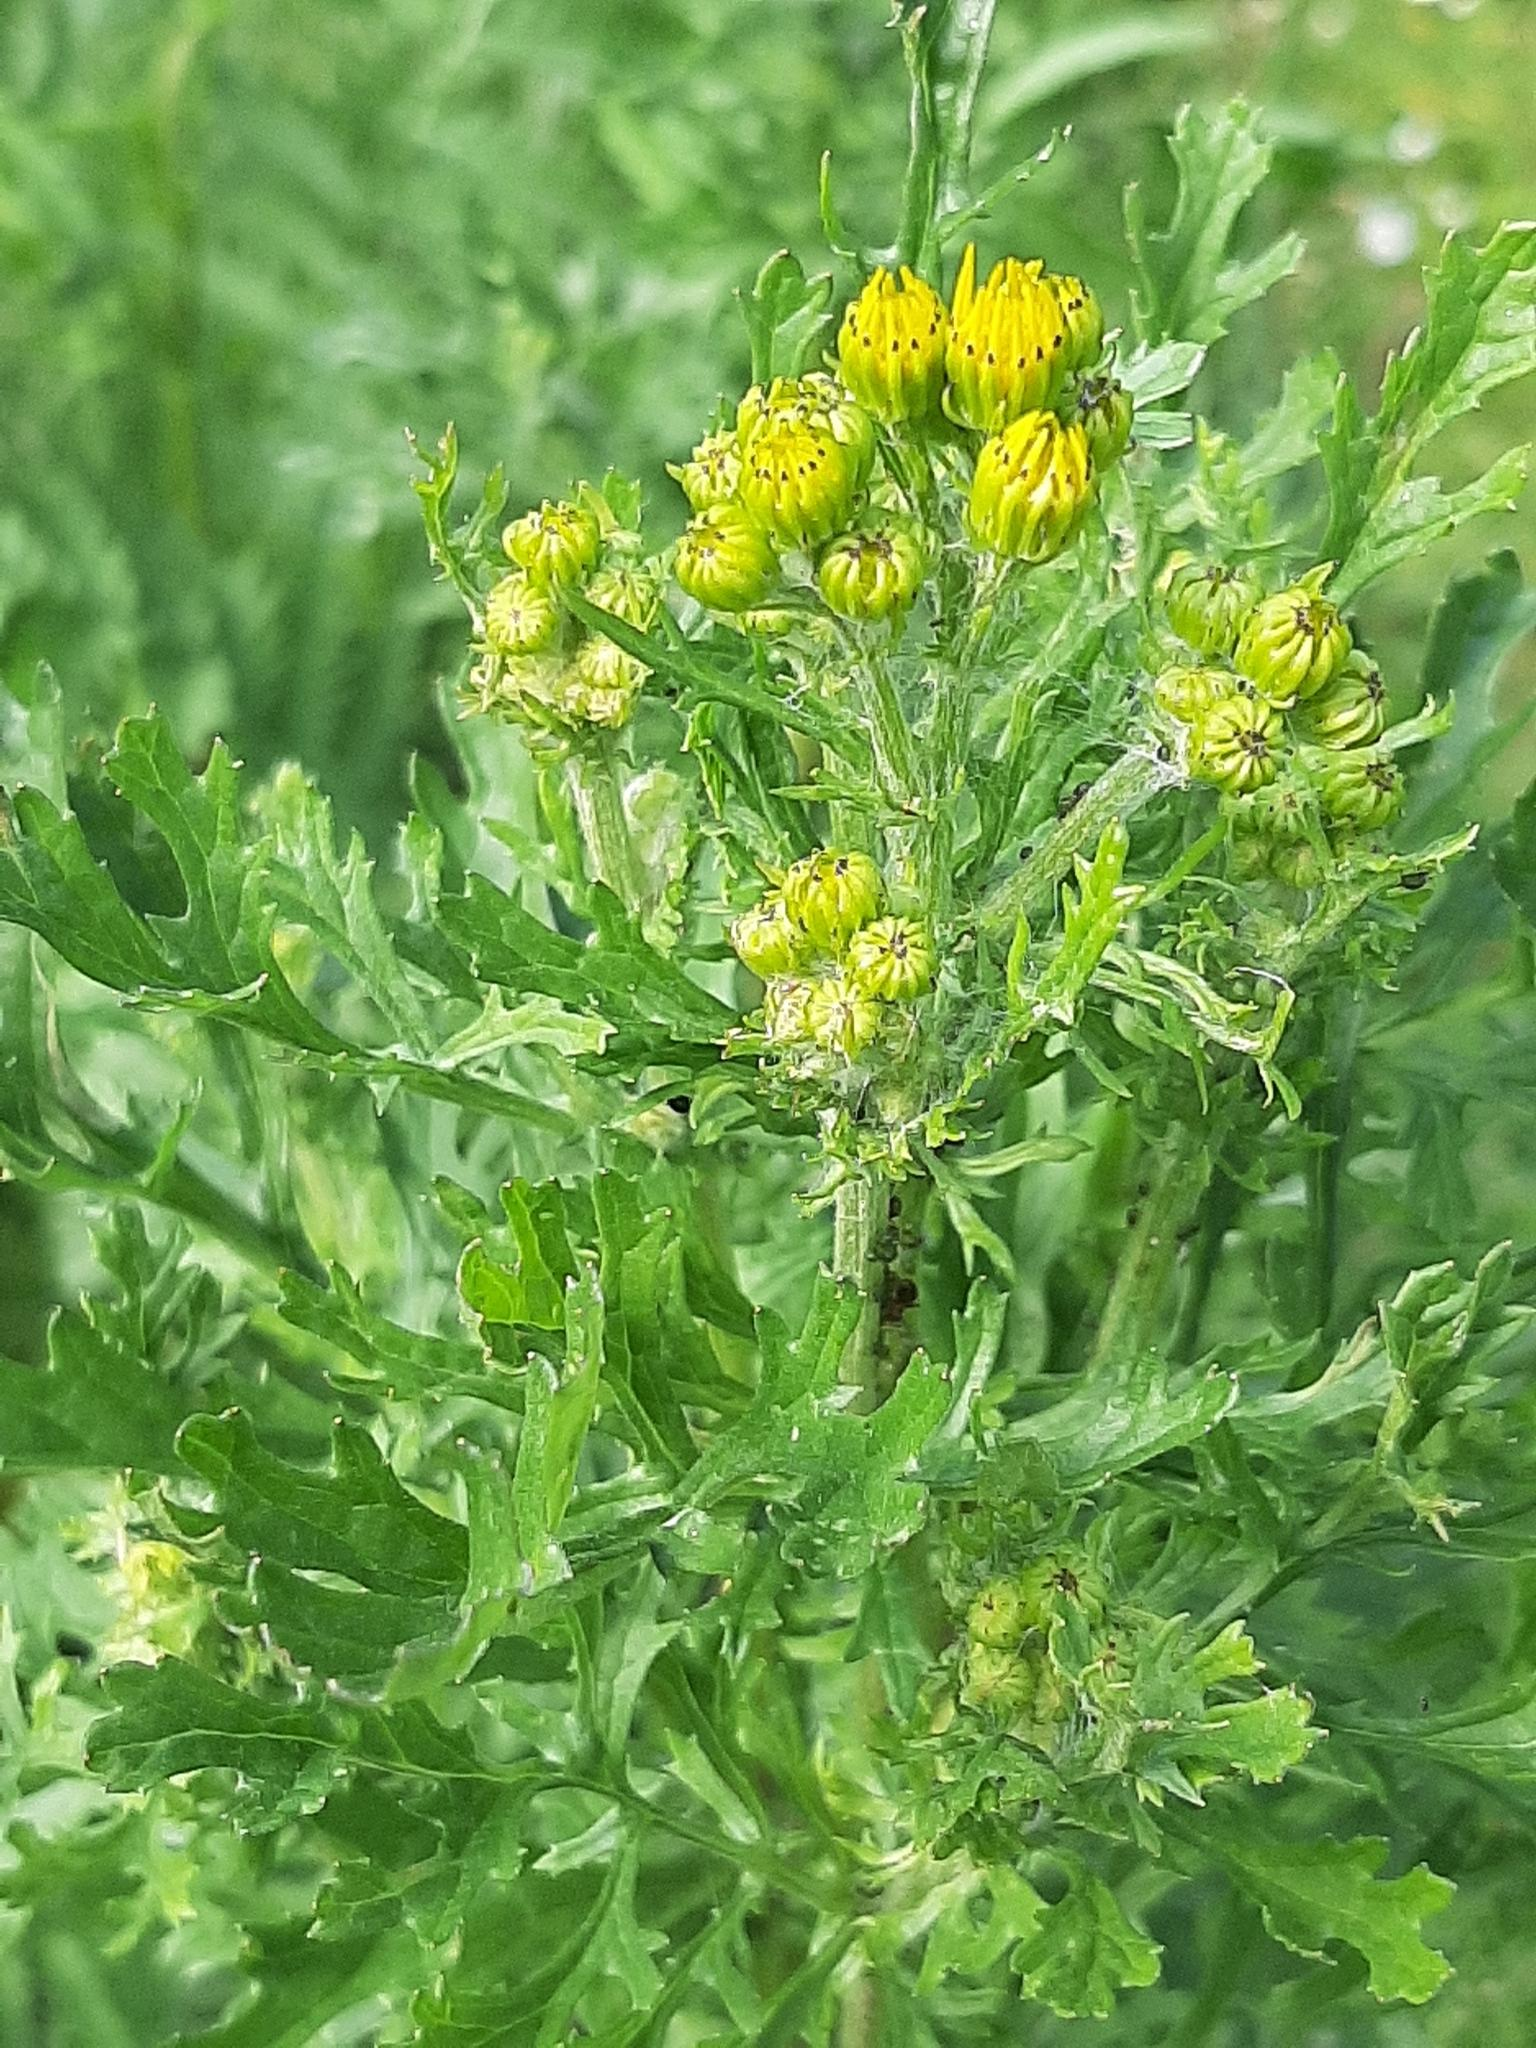Jacobaea vulgaris: (0, 190, 1536, 2048)
